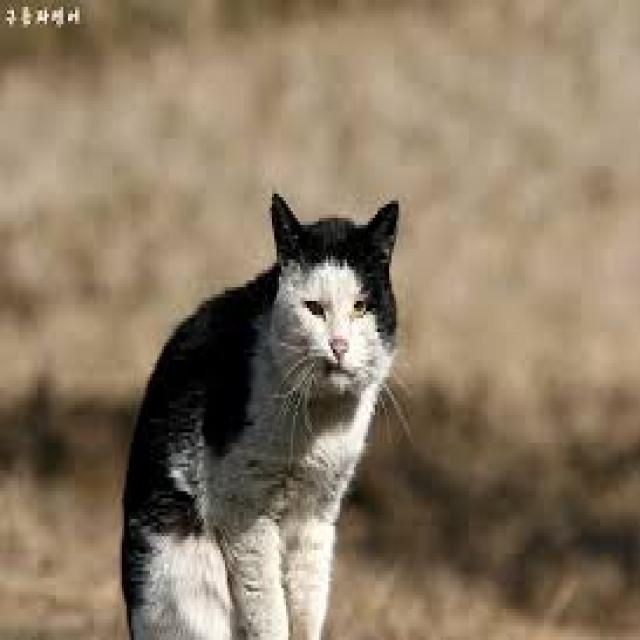cat: (102, 164, 421, 640)
